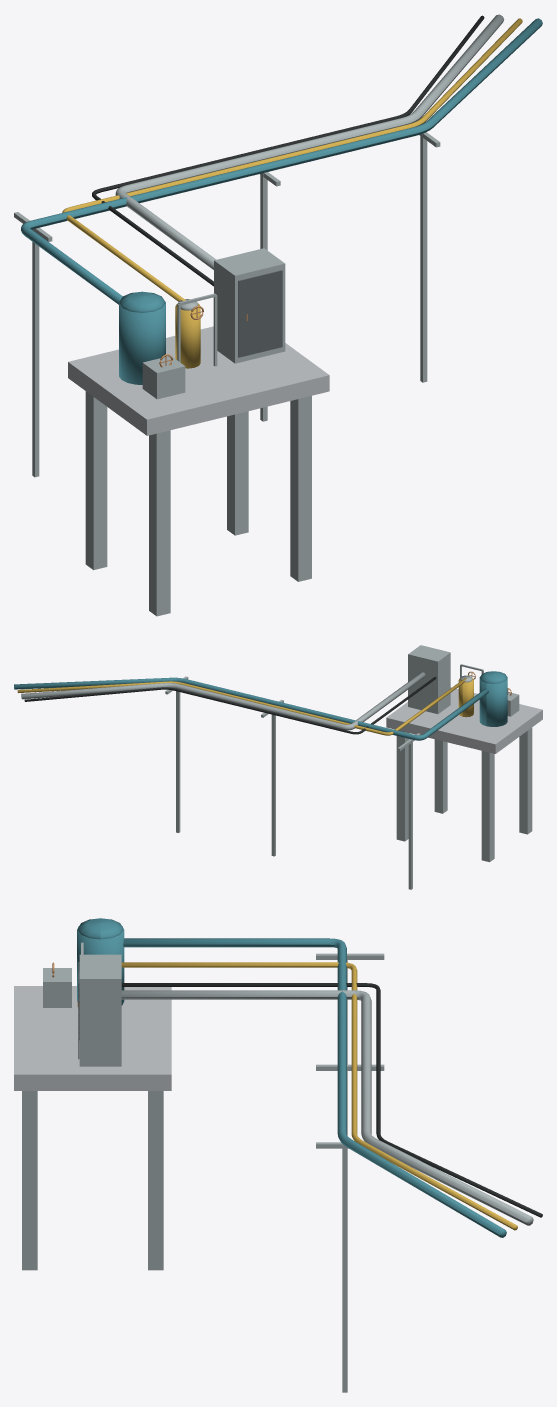
The model's file is yokocho-utility-service-bank.glb.
3 renders of one model, top to bottom at view 1: azimuth 30°, elevation 25°; view 2: azimuth 150°, elevation 25°; view 3: azimuth 270°, elevation 25°, orthographic. The views are drawn at different scales.
Visible parts, largest first — view 1: Infrastructure/Ground/ServiceBank__UtilityGalvanized, Infrastructure/Ground/ServiceBank__Stone, Infrastructure/Ground/ServiceBank__UtilityWaterBlue, Infrastructure/Ground/ServiceBank__UtilityGasOchre, Infrastructure/Ground/ServiceBank__Iron, Infrastructure/Ground/ServiceBank__UtilityCable; view 2: Infrastructure/Ground/ServiceBank__UtilityGalvanized, Infrastructure/Ground/ServiceBank__Stone, Infrastructure/Ground/ServiceBank__UtilityWaterBlue, Infrastructure/Ground/ServiceBank__UtilityGasOchre, Infrastructure/Ground/ServiceBank__UtilityCable; view 3: Infrastructure/Ground/ServiceBank__UtilityGalvanized, Infrastructure/Ground/ServiceBank__Stone, Infrastructure/Ground/ServiceBank__UtilityWaterBlue, Infrastructure/Ground/ServiceBank__UtilityGasOchre, Infrastructure/Ground/ServiceBank__UtilityCable.
Boxes of the visible parts, <box> form: Infrastructure/Ground/ServiceBank__UtilityGalvanized: <box>14,14,504,616</box>; Infrastructure/Ground/ServiceBank__Stone: <box>68,326,329,435</box>; Infrastructure/Ground/ServiceBank__UtilityWaterBlue: <box>21,18,542,384</box>; Infrastructure/Ground/ServiceBank__UtilityGasOchre: <box>62,18,522,368</box>; Infrastructure/Ground/ServiceBank__Iron: <box>238,270,282,357</box>; Infrastructure/Ground/ServiceBank__UtilityCable: <box>92,15,484,286</box>; Infrastructure/Ground/ServiceBank__UtilityGalvanized: <box>21,645,532,889</box>; Infrastructure/Ground/ServiceBank__Stone: <box>386,687,542,753</box>; Infrastructure/Ground/ServiceBank__UtilityWaterBlue: <box>14,671,507,740</box>; Infrastructure/Ground/ServiceBank__UtilityGasOchre: <box>17,677,473,735</box>; Infrastructure/Ground/ServiceBank__UtilityCable: <box>24,676,436,734</box>; Infrastructure/Ground/ServiceBank__UtilityGalvanized: <box>22,942,533,1392</box>; Infrastructure/Ground/ServiceBank__Stone: <box>14,986,171,1090</box>; Infrastructure/Ground/ServiceBank__UtilityWaterBlue: <box>77,918,506,1237</box>; Infrastructure/Ground/ServiceBank__UtilityGasOchre: <box>121,962,517,1230</box>; Infrastructure/Ground/ServiceBank__UtilityCable: <box>121,983,542,1217</box>.
Size of the model in its own units: 14.01 by 6.14 by 10.07.
